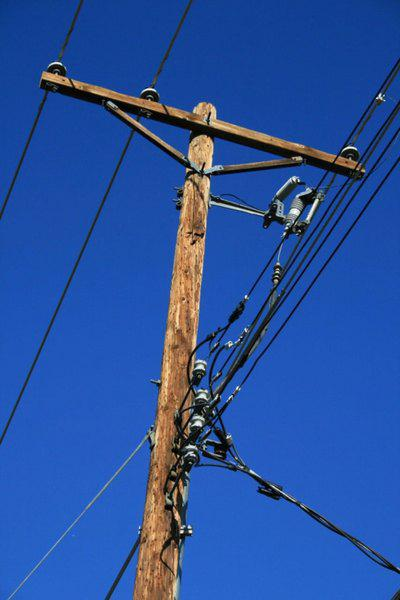utility_pole: (21, 27, 382, 302)
